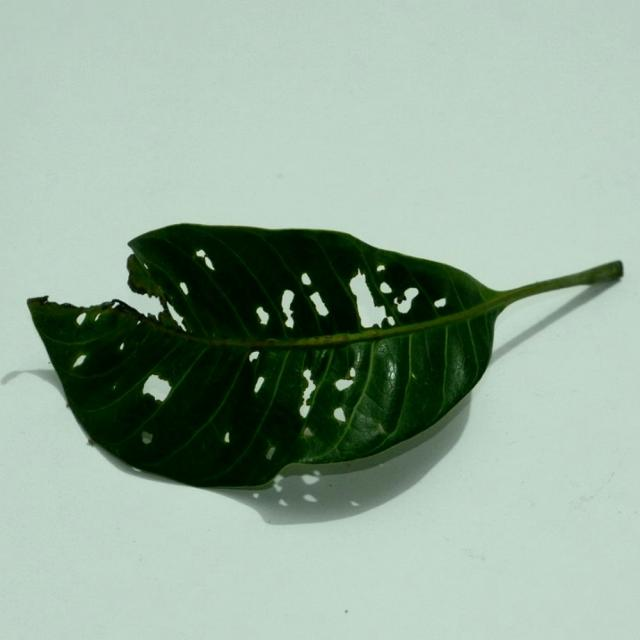Anthracnose: (348, 274, 381, 321), (143, 376, 173, 406), (156, 297, 184, 329), (299, 375, 317, 414), (309, 290, 328, 320), (281, 290, 297, 324), (399, 288, 420, 311), (334, 376, 354, 393), (256, 306, 270, 326), (254, 374, 266, 395), (301, 473, 320, 485), (333, 407, 347, 423), (201, 254, 214, 271), (72, 354, 86, 368), (76, 311, 87, 326), (141, 431, 153, 444), (179, 282, 189, 297), (433, 297, 446, 308), (301, 273, 312, 286), (376, 422, 387, 435), (266, 447, 276, 460), (249, 351, 259, 364), (196, 249, 207, 260), (303, 427, 314, 437), (376, 264, 386, 274), (348, 367, 356, 379), (223, 432, 231, 443)
Mango: (26, 223, 625, 526)
